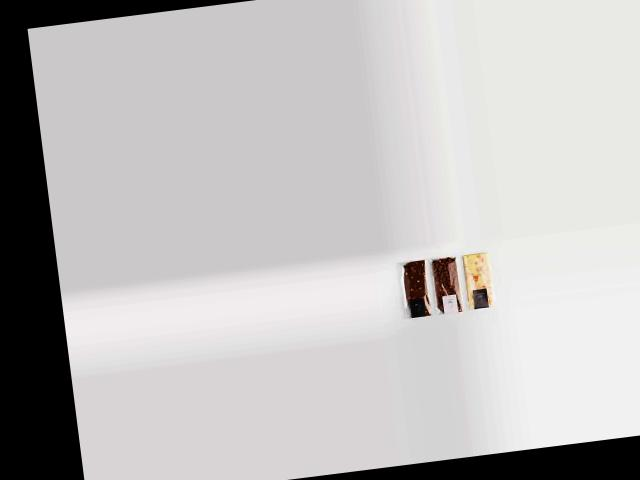chocolate: (396, 257, 430, 318)
